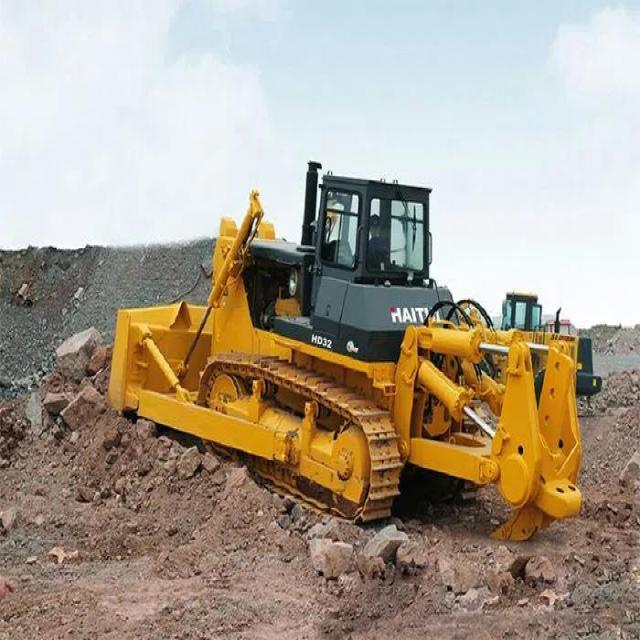Bulldozer: (100, 153, 592, 571)
